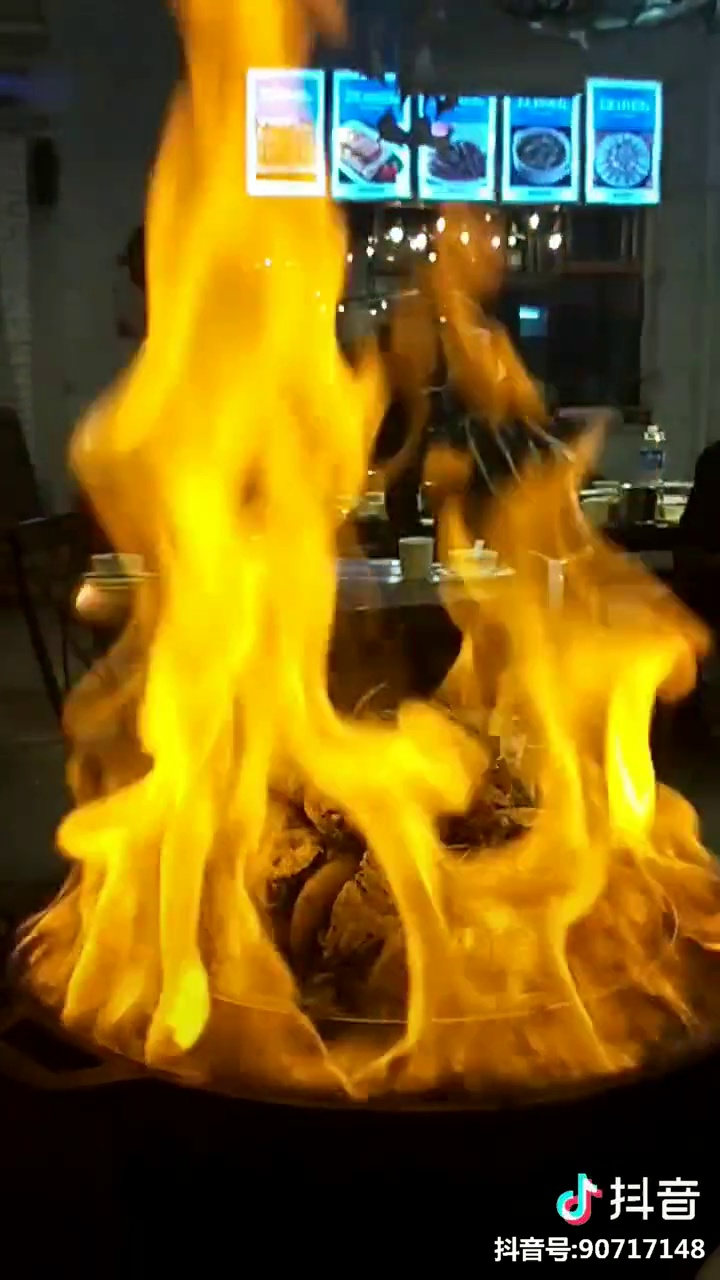fire: (94, 14, 684, 1100)
